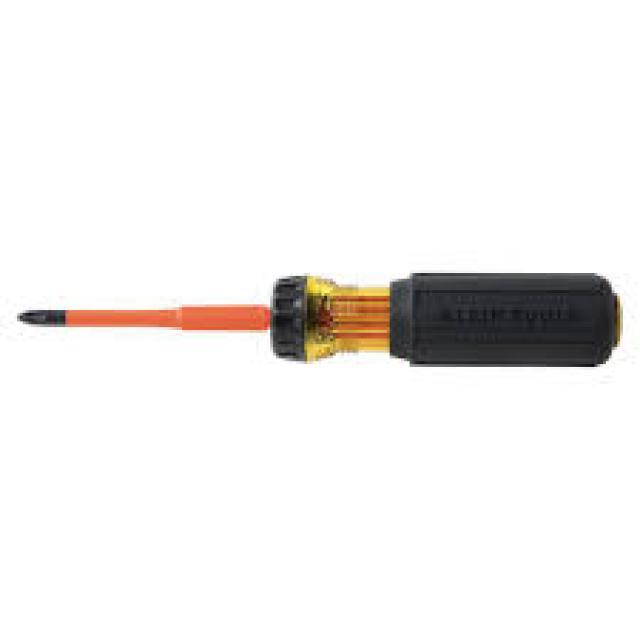screwdriver: (3, 255, 624, 375)
